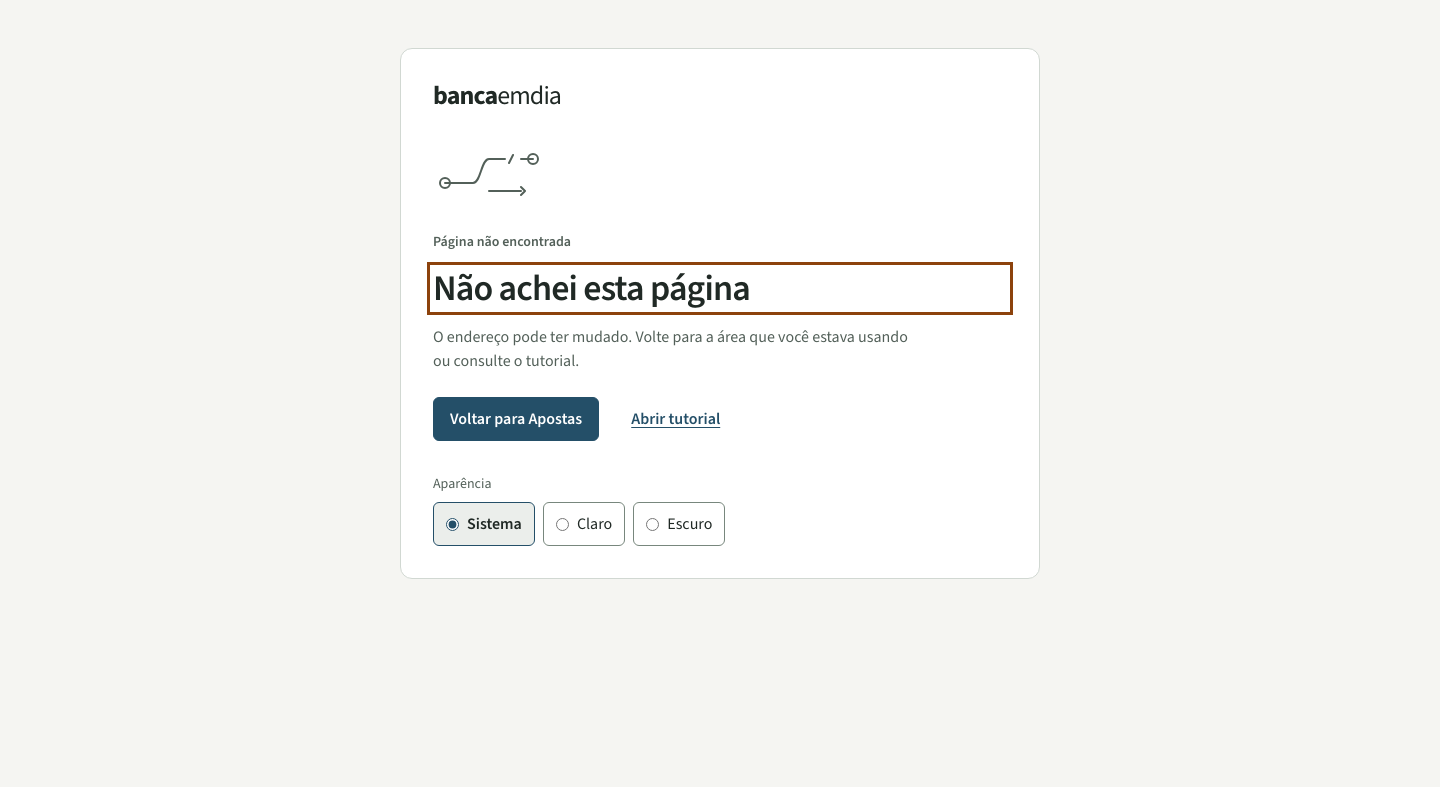
Test case: mostra 404 sem sessão e permite sair da página por navegação interna
This screenshot has width=1440, height=787.
Expected: the heading "Não achei esta página" is shown, [433,264,750,312]
Step 1. Click the link "Abrir tutorial" → (676, 419), box [631,408,720,429]
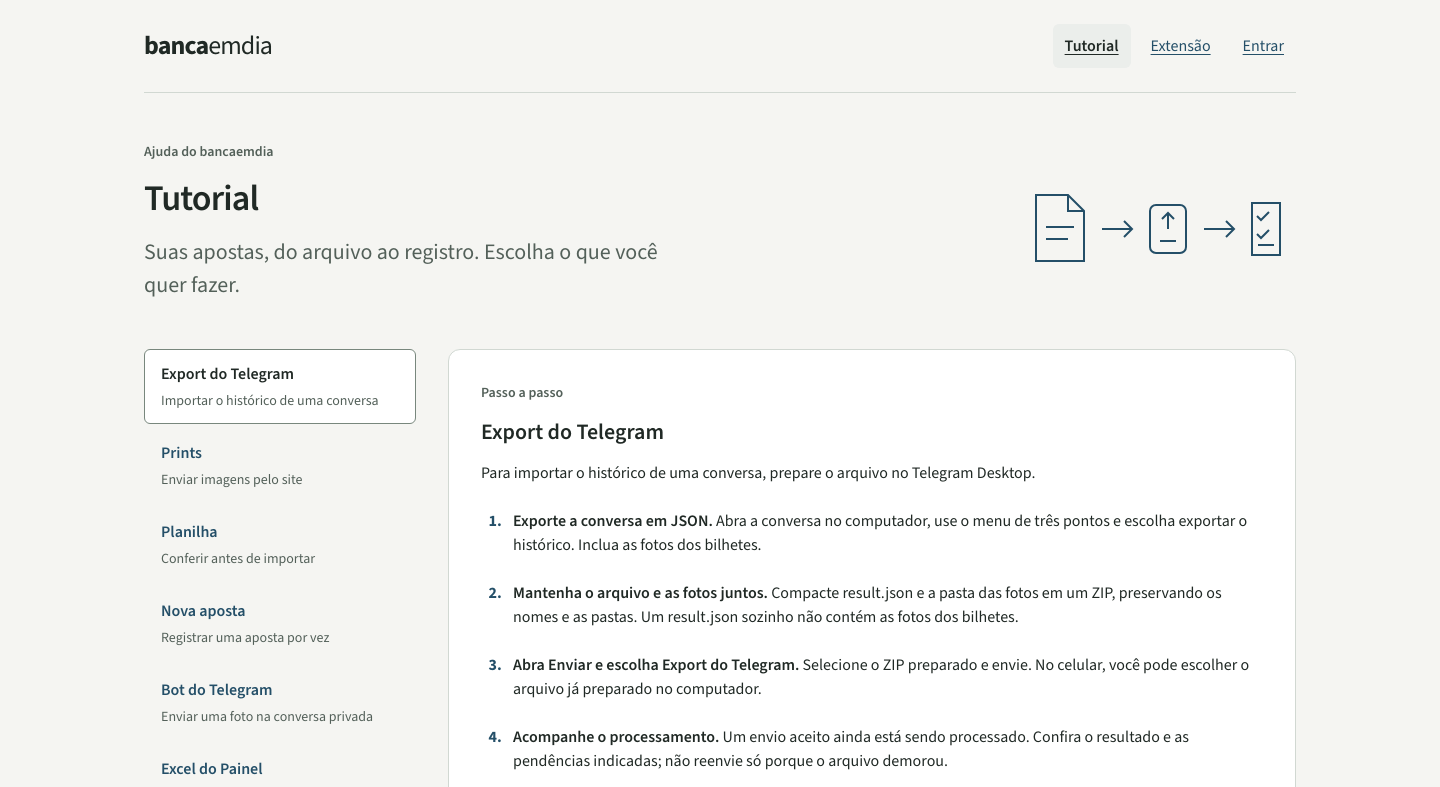
Expected: the heading "Tutorial" is shown, [144,174,258,222]
